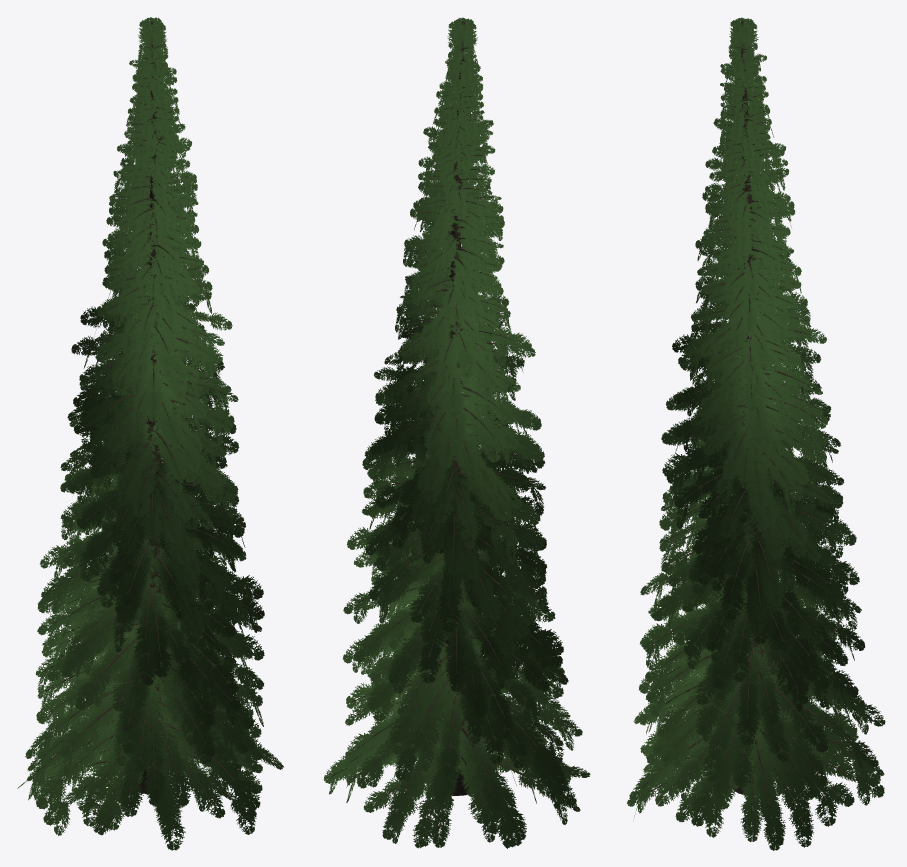
Rendered from spruce_conifer_v03.fbx.
3 renders of one model, left to right at view 1: azimuth 30°, elevation 25°; view 2: azimuth 150°, elevation 25°; view 3: azimuth 270°, elevation 25°, orthographic.
Visible parts, largest first — view 1: spruce_conifer_v03; view 2: spruce_conifer_v03; view 3: spruce_conifer_v03.
Boxes of the visible parts, x1,y1,x2,y2 form: spruce_conifer_v03: (17, 17, 283, 850); spruce_conifer_v03: (324, 17, 590, 848); spruce_conifer_v03: (627, 17, 885, 850).
Size of the model in its own units: 1055 by 1021 by 3314.
Materials: 2 (2 with a texture image).
